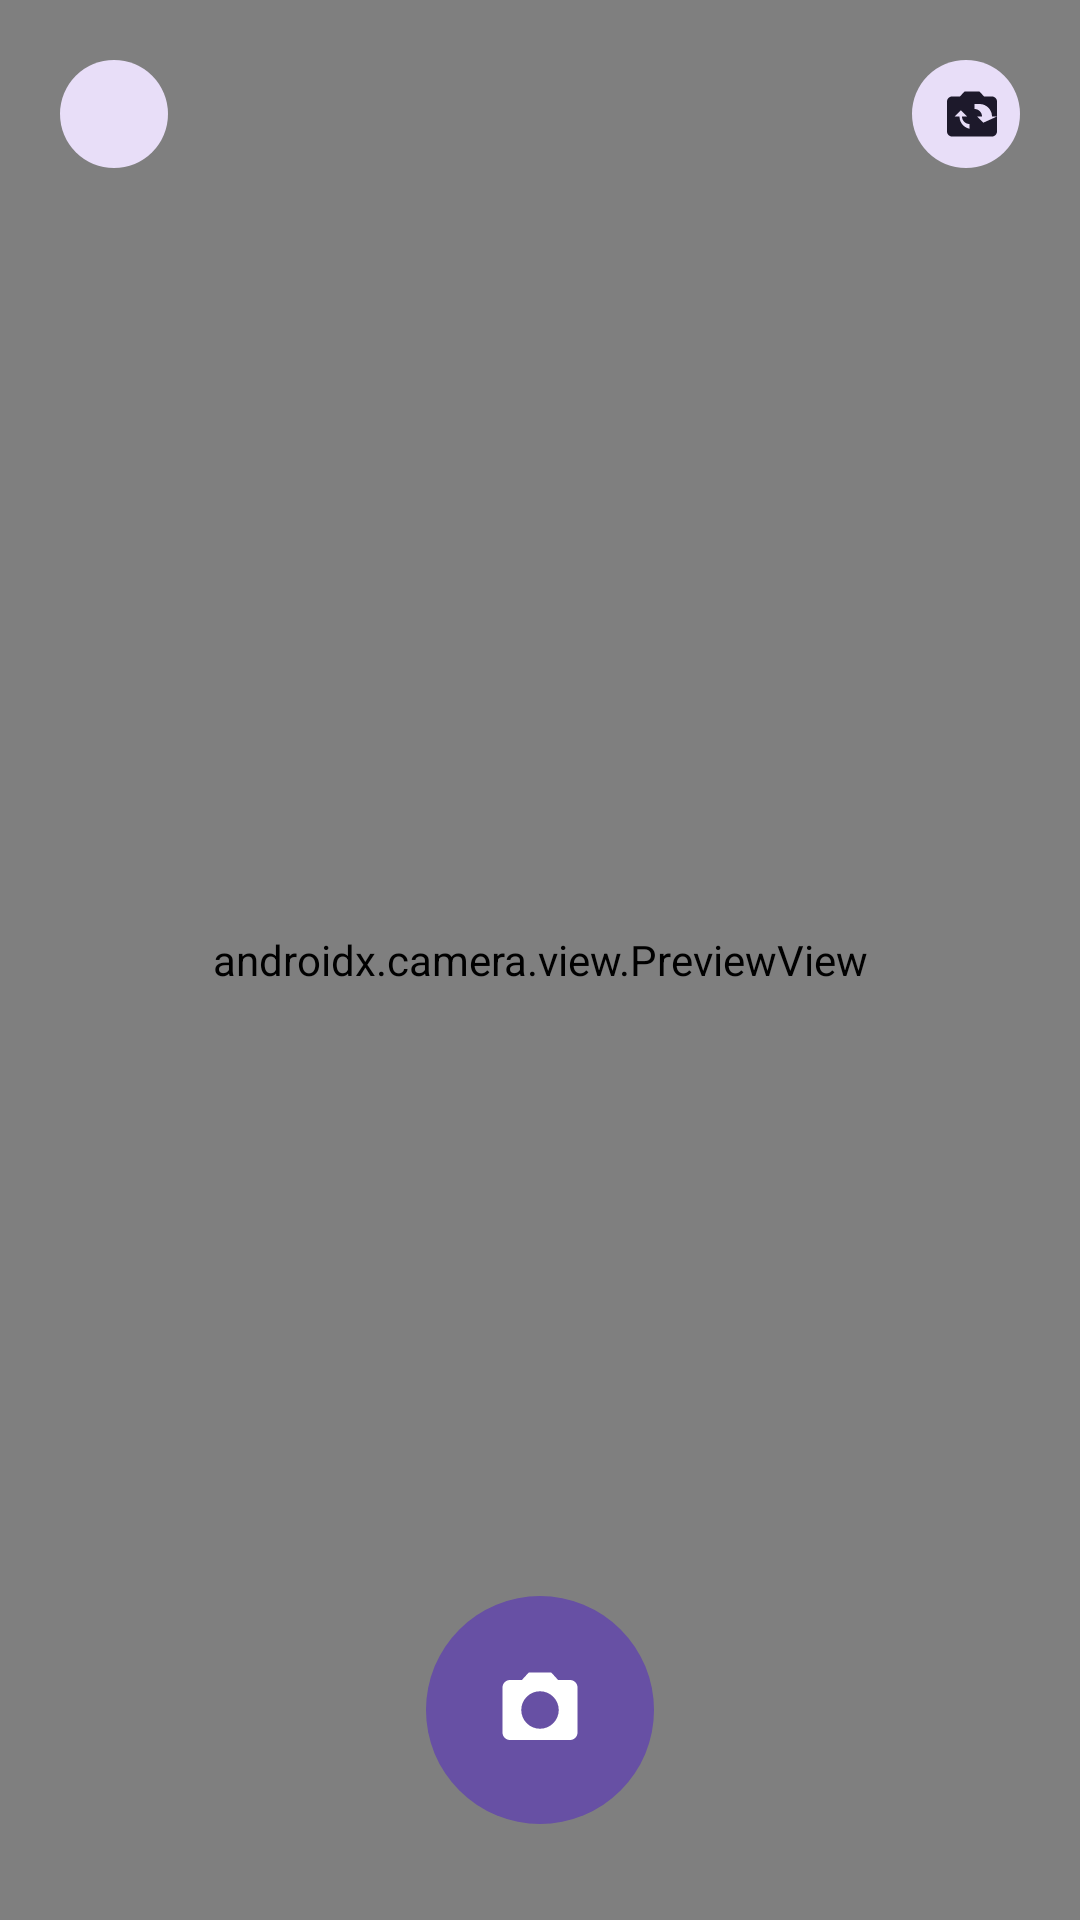

Screen size 1080 × 1920. Icon name, then its box in pixels as detection(x1, y1, x2, y2):
Cambiar cámara: detection(912, 60, 1020, 168)
Capturar: detection(426, 1596, 654, 1824)
